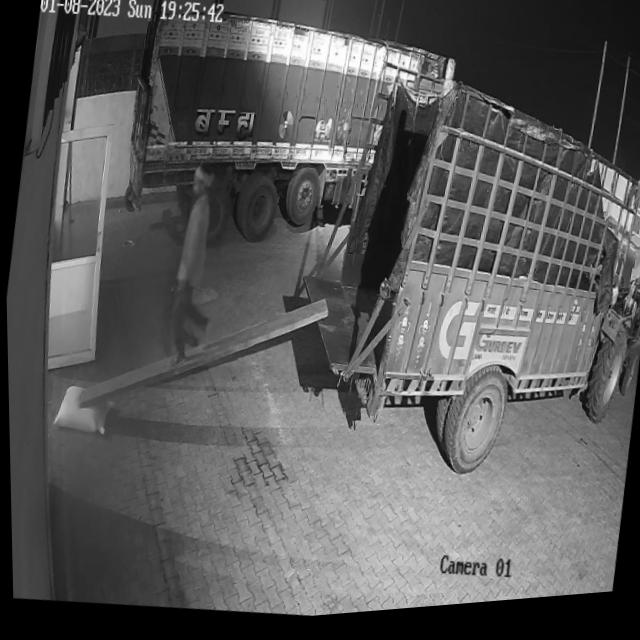sack: (50, 380, 113, 438)
